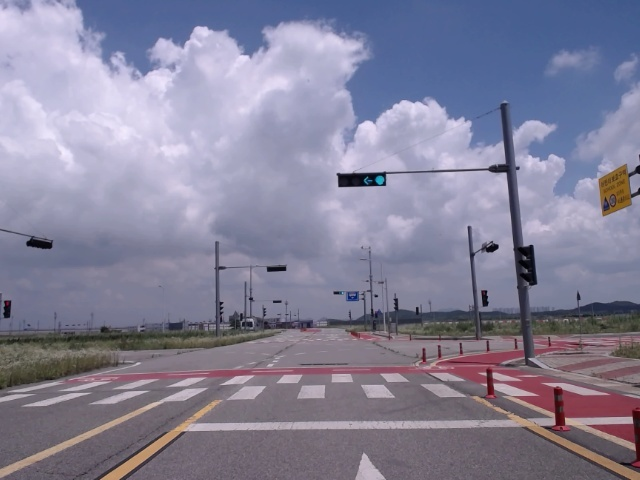all_green_4: (334, 171, 386, 187)
